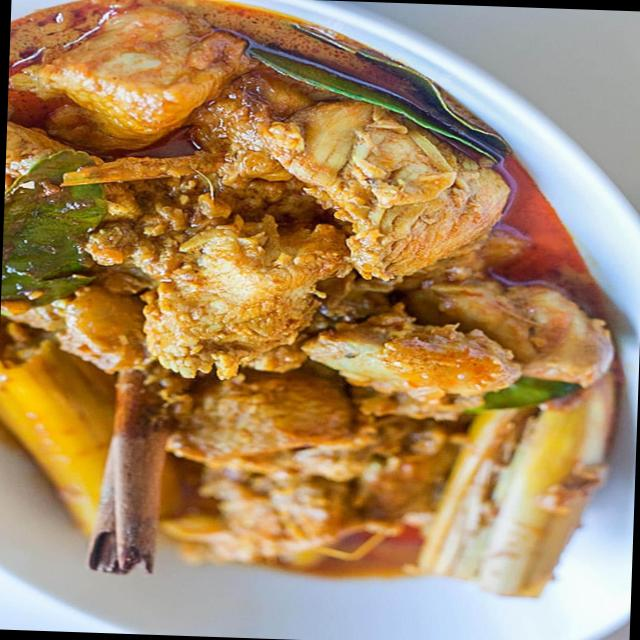chicken: (0, 0, 526, 561)
